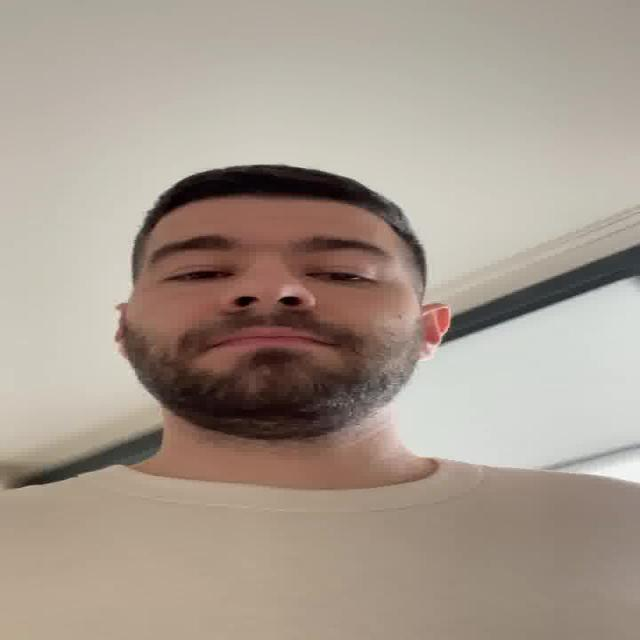earlobe: (412, 349, 435, 364), (114, 346, 133, 362)
eye: (302, 269, 381, 285), (158, 270, 242, 284)
nose: (223, 304, 312, 328)
wholeear: (414, 302, 449, 363), (111, 301, 132, 360)
